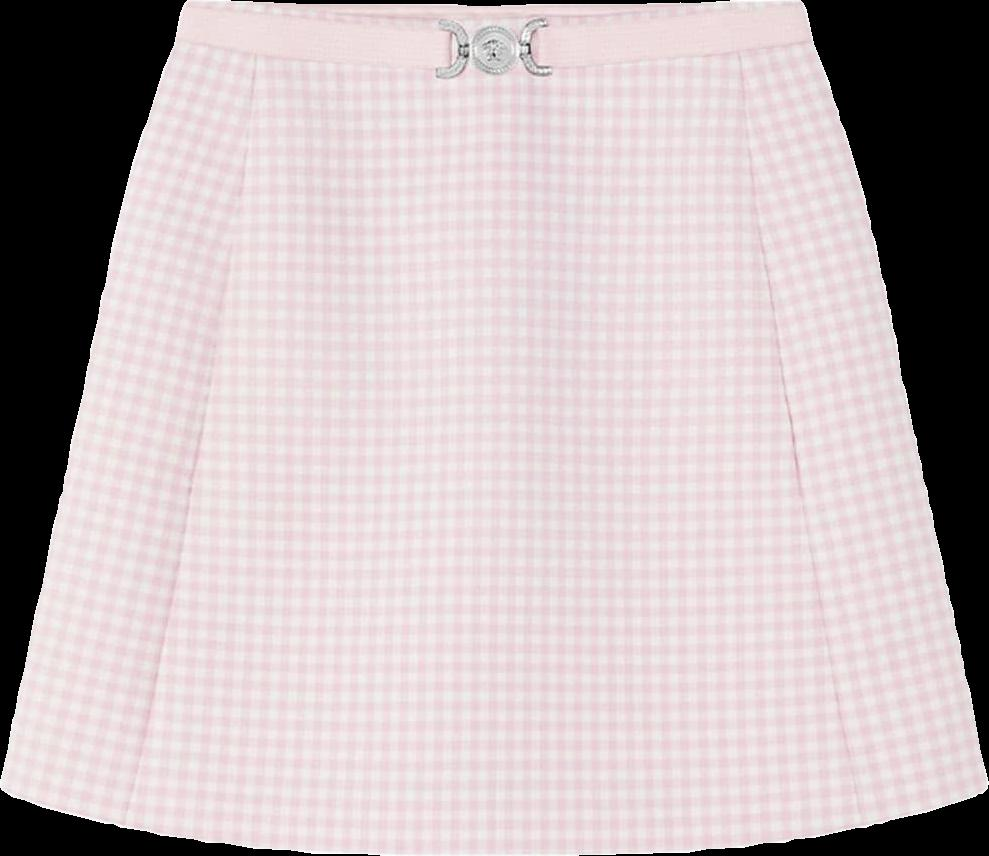Hemline: (0, 783, 988, 855)
Waistline: (179, 0, 803, 23)
